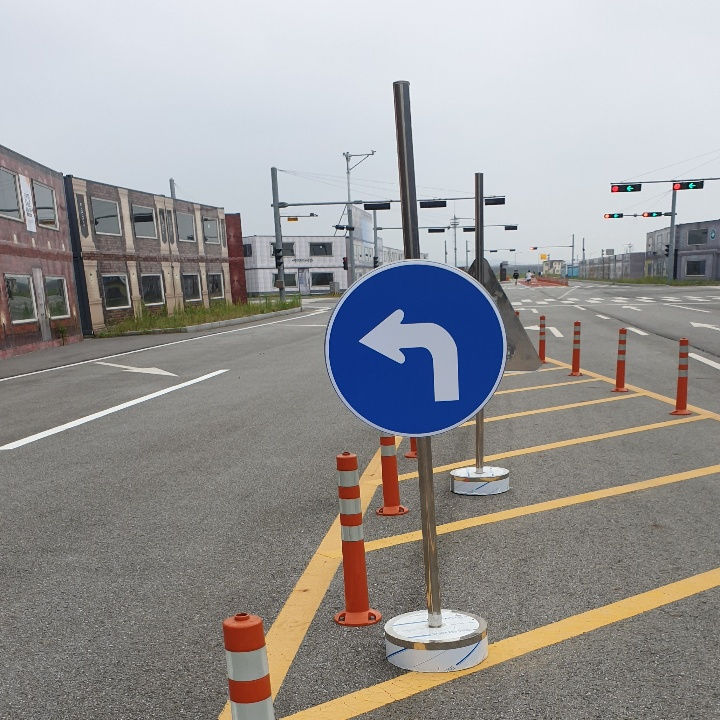left: (346, 298, 474, 414)
